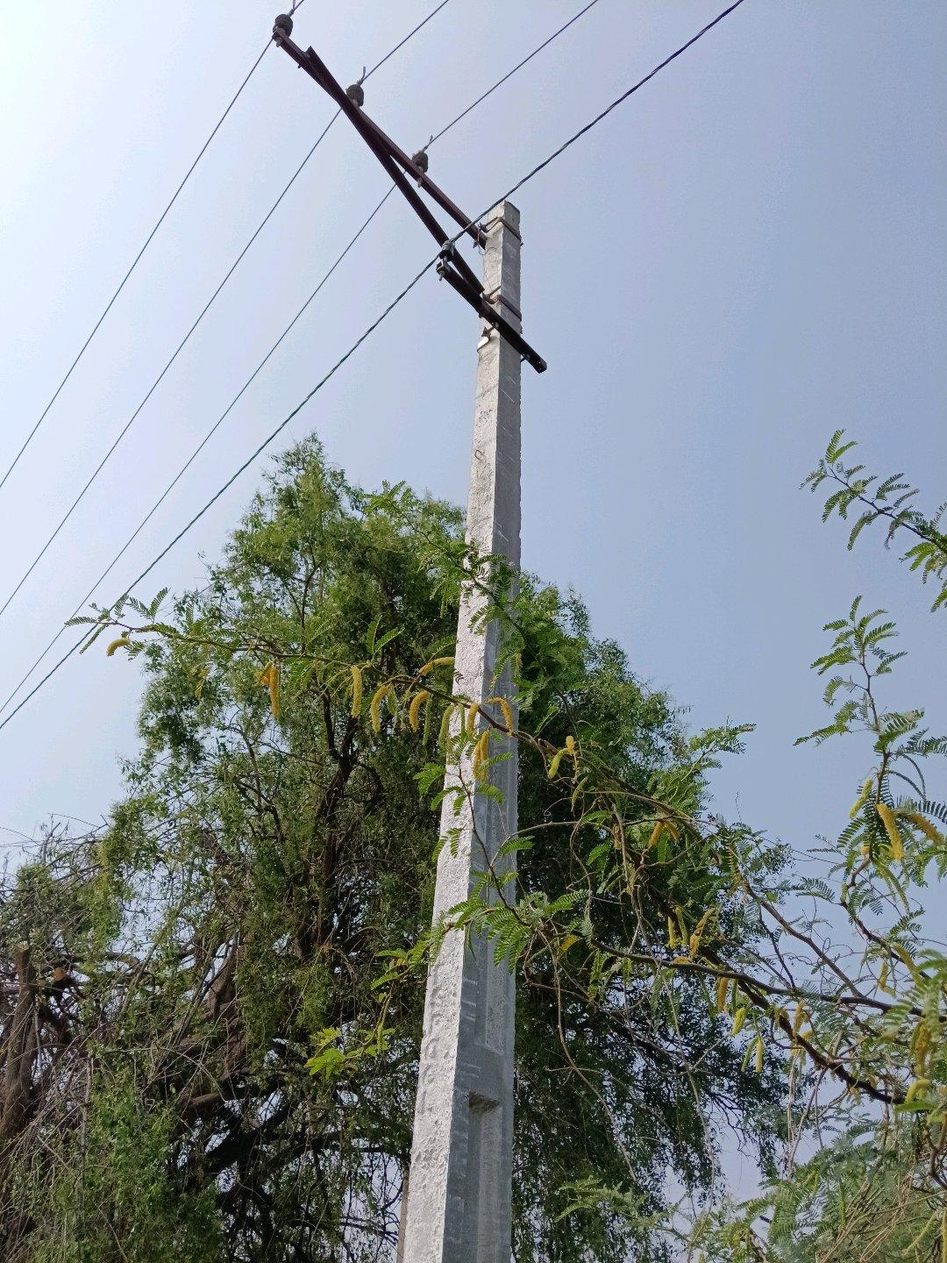{"0" "insulator", "1" "pole", "2" "crossarm", "3" "conductor", "4" "street_: (273, 17, 545, 576), (399, 585, 516, 1262)
